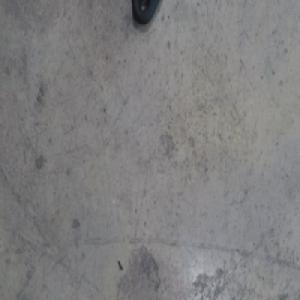AdjustableWrench: (131, 0, 159, 25)
